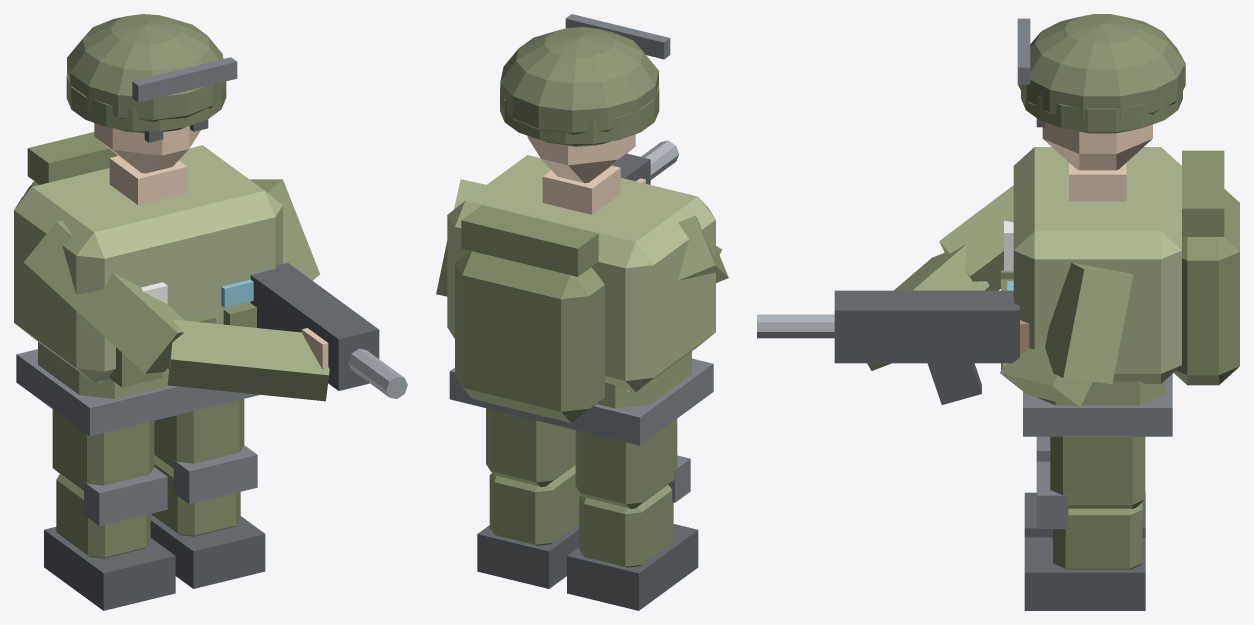
File: marine.glb
The picture shows the model from 3 angles, left to right: view 1: azimuth 30°, elevation 25°; view 2: azimuth 150°, elevation 25°; view 3: azimuth 270°, elevation 25°; orthographic projection.
Parts seen in each view (by area): view 1: main, shinl, shinr, legl, legr; view 2: main, shinl, shinr, legl, legr; view 3: main, shinr, legr, shinl.
Boxes of the visible parts, x1=… form: main: x1=14, y1=14, x2=407, y2=436; shinl: x1=44, y1=467, x2=175, y2=610; shinr: x1=150, y1=445, x2=265, y2=588; legl: x1=52, y1=409, x2=154, y2=490; legr: x1=154, y1=399, x2=244, y2=468; main: x1=436, y1=14, x2=728, y2=445; shinl: x1=567, y1=455, x2=698, y2=610; shinr: x1=477, y1=465, x2=581, y2=588; legl: x1=575, y1=419, x2=677, y2=508; legr: x1=486, y1=408, x2=575, y2=486; main: x1=757, y1=14, x2=1239, y2=436; shinr: x1=1024, y1=461, x2=1145, y2=610; legr: x1=1050, y1=436, x2=1145, y2=508; shinl: x1=1024, y1=436, x2=1145, y2=537.
Size of the model in its own units: 0.3161 by 0.5733 by 0.4586.
